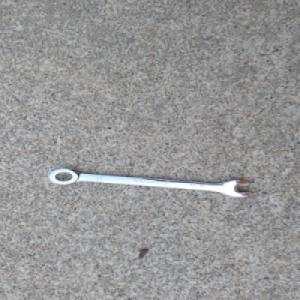Wrench: (48, 167, 253, 197)
